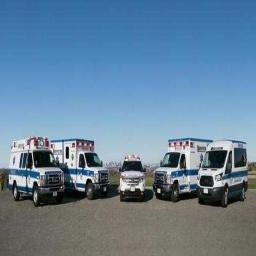Ambulance: (8, 137, 63, 205), (153, 138, 211, 201), (51, 138, 108, 199), (198, 140, 247, 206), (119, 154, 145, 200)
